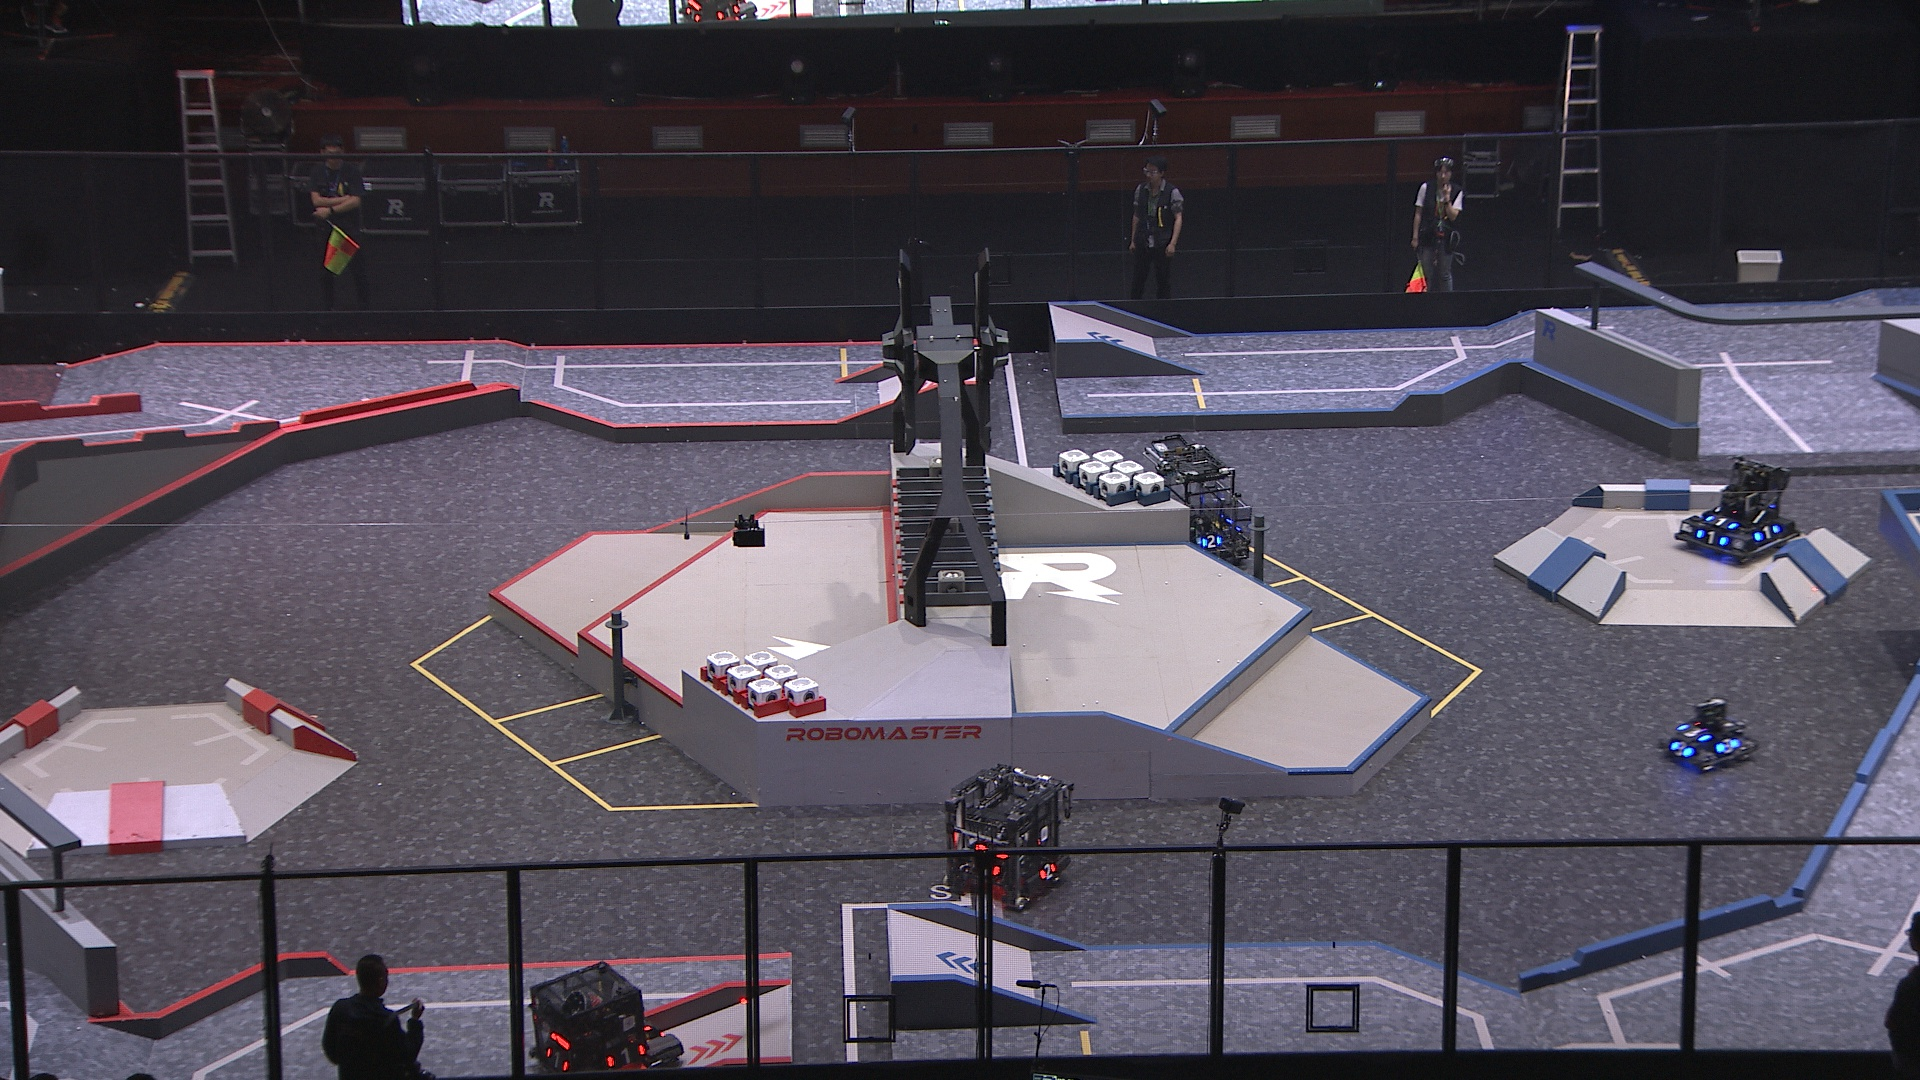armor: (608, 1040, 647, 1069), (1705, 510, 1738, 531), (1750, 524, 1780, 545), (542, 1048, 568, 1071), (1693, 531, 1727, 546), (1671, 737, 1692, 760), (1680, 723, 1709, 737), (1717, 737, 1741, 754), (1199, 534, 1222, 550), (1040, 861, 1058, 882)
car: (942, 767, 1079, 913), (529, 960, 683, 1080), (1143, 431, 1255, 567), (1675, 458, 1803, 564), (1659, 698, 1756, 770)
